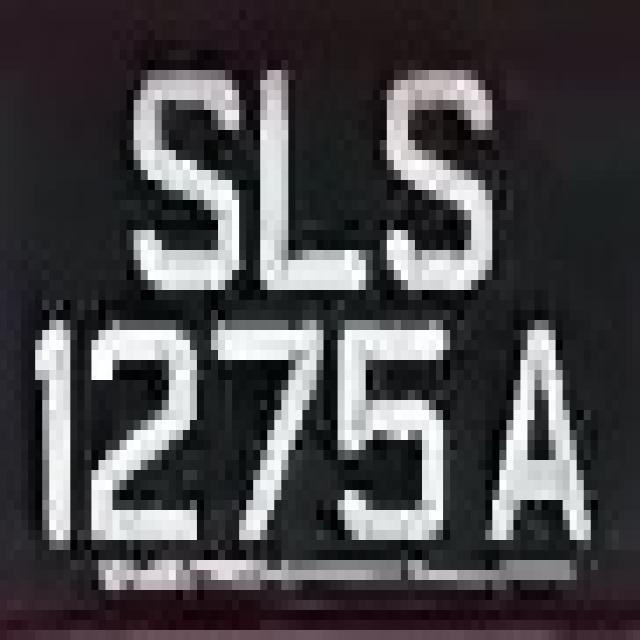1: (7, 270, 70, 600)
2: (70, 290, 211, 590)
5: (310, 280, 450, 560)
7: (183, 310, 330, 570)
A: (457, 300, 612, 570)
L: (232, 40, 380, 300)
S: (352, 50, 520, 310), (99, 30, 253, 310)
